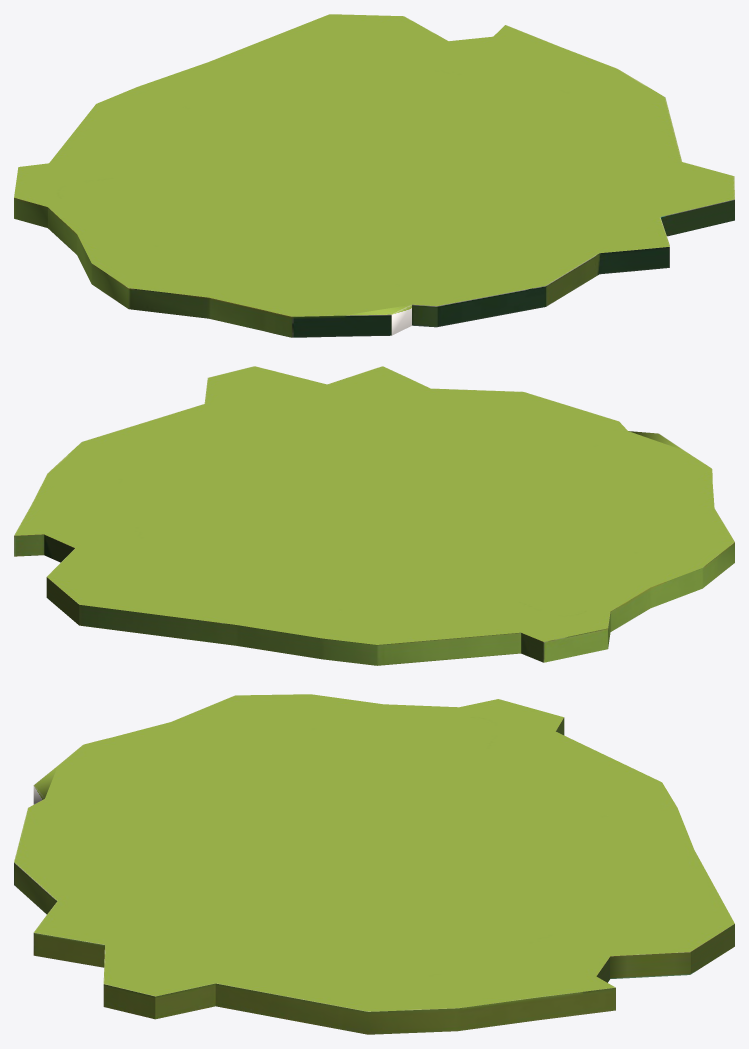
Rendered from hole.gltf.glb.
The picture shows the model from 3 angles, top to bottom: view 1: azimuth 30°, elevation 25°; view 2: azimuth 150°, elevation 25°; view 3: azimuth 270°, elevation 25°; orthographic projection. The views are drawn at different scales.
Parts seen in each view (by area): view 1: Mesh_0; view 2: Mesh_0; view 3: Mesh_0.
Part boxes in pixels (x1,y1,x2,y2): Mesh_0: (14, 14, 734, 337); Mesh_0: (14, 366, 734, 665); Mesh_0: (14, 694, 734, 1034).
Size of the model in its own units: 15.83 by 0.5303 by 15.18.
1 material, 1 textured.
